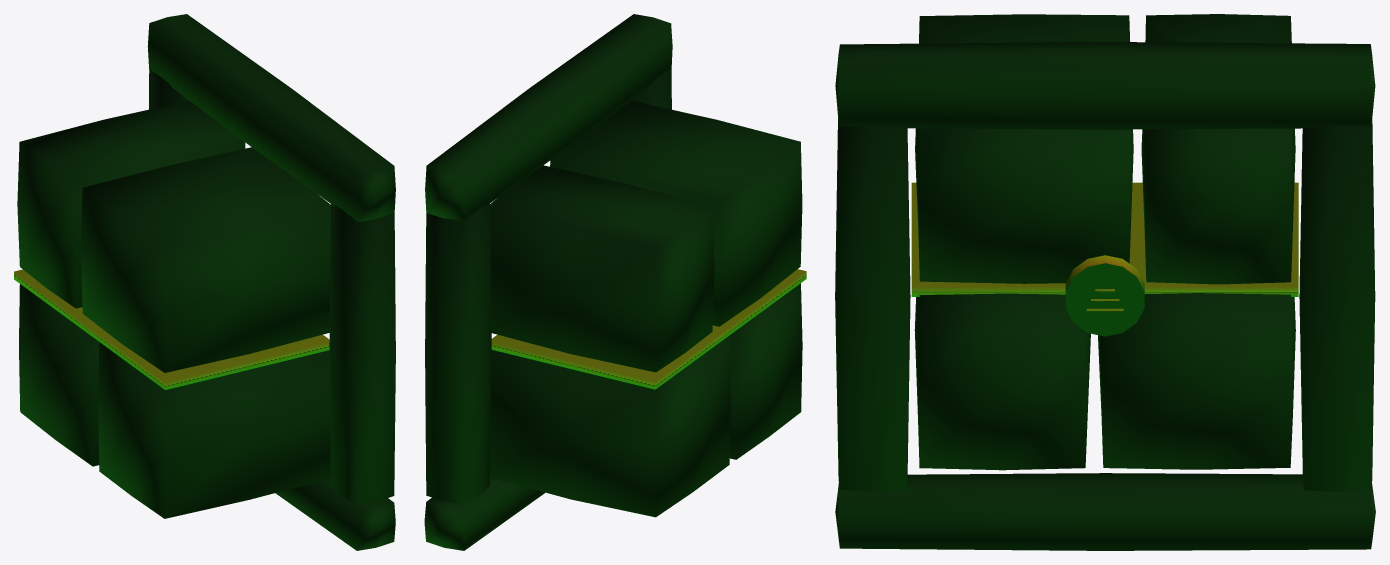
Rendered from niche_seal.glb.
The picture shows the model from 3 angles, left to right: view 1: azimuth 30°, elevation 25°; view 2: azimuth 150°, elevation 25°; view 3: azimuth 270°, elevation 25°; orthographic projection. The views are drawn at different scales.
Visible parts, largest first — view 1: niche_seal; view 2: niche_seal; view 3: niche_seal.
Part boxes in pixels (x1=…): niche_seal: x1=14, y1=14, x2=395, y2=550; niche_seal: x1=424, y1=14, x2=806, y2=550; niche_seal: x1=835, y1=14, x2=1375, y2=550.
Size of what is drawn, in the model's own units: 0.5618 by 1 by 1.
